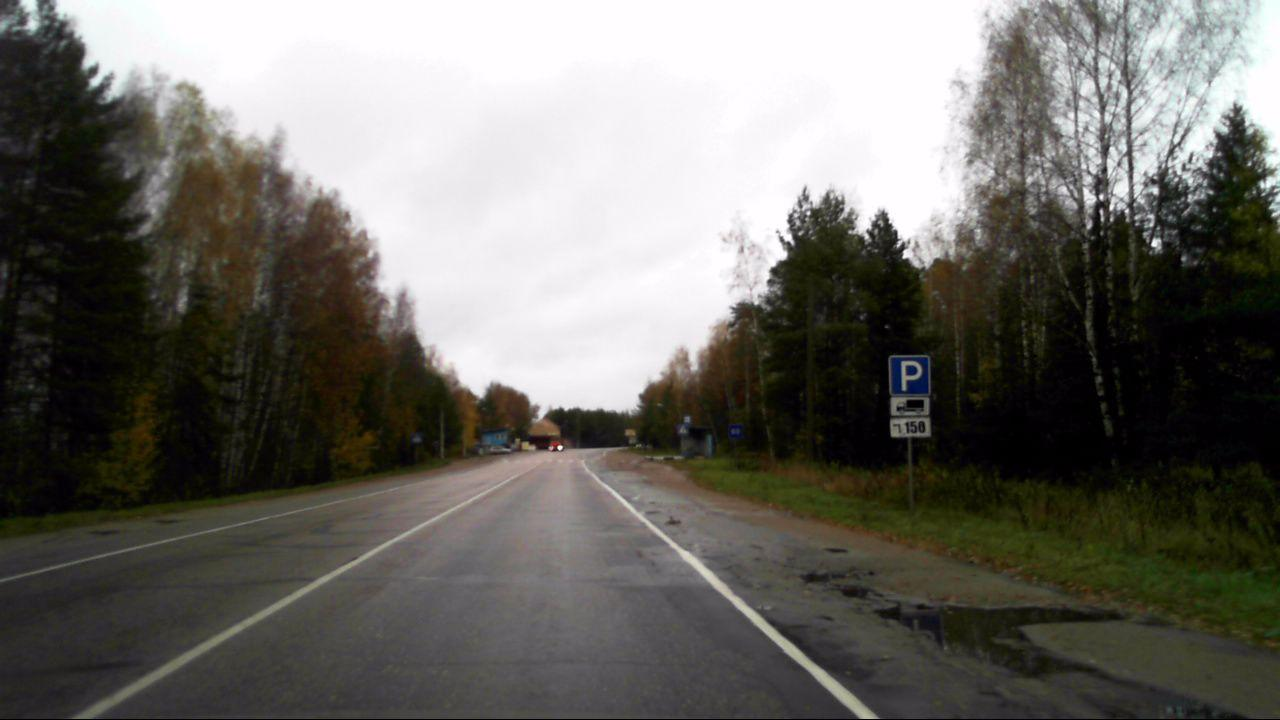5_19_1: (676, 423, 688, 435)
5_19_2: (412, 432, 423, 443)
6_2: (729, 423, 744, 438)
6_4: (886, 354, 932, 395)
8_1_4: (889, 417, 934, 439)
8_4_1: (890, 394, 929, 414)
